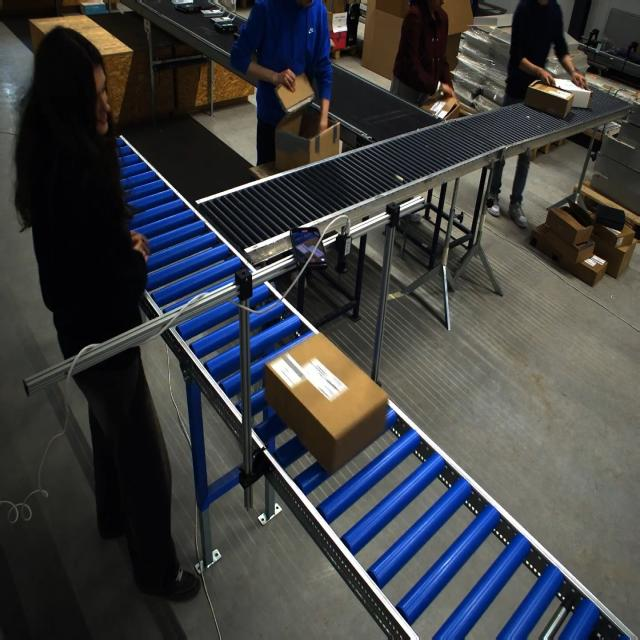box: (265, 335, 377, 472), (274, 97, 336, 172), (274, 70, 314, 115)
product: (212, 19, 238, 34), (175, 4, 204, 14), (209, 13, 235, 23), (200, 8, 226, 16)
